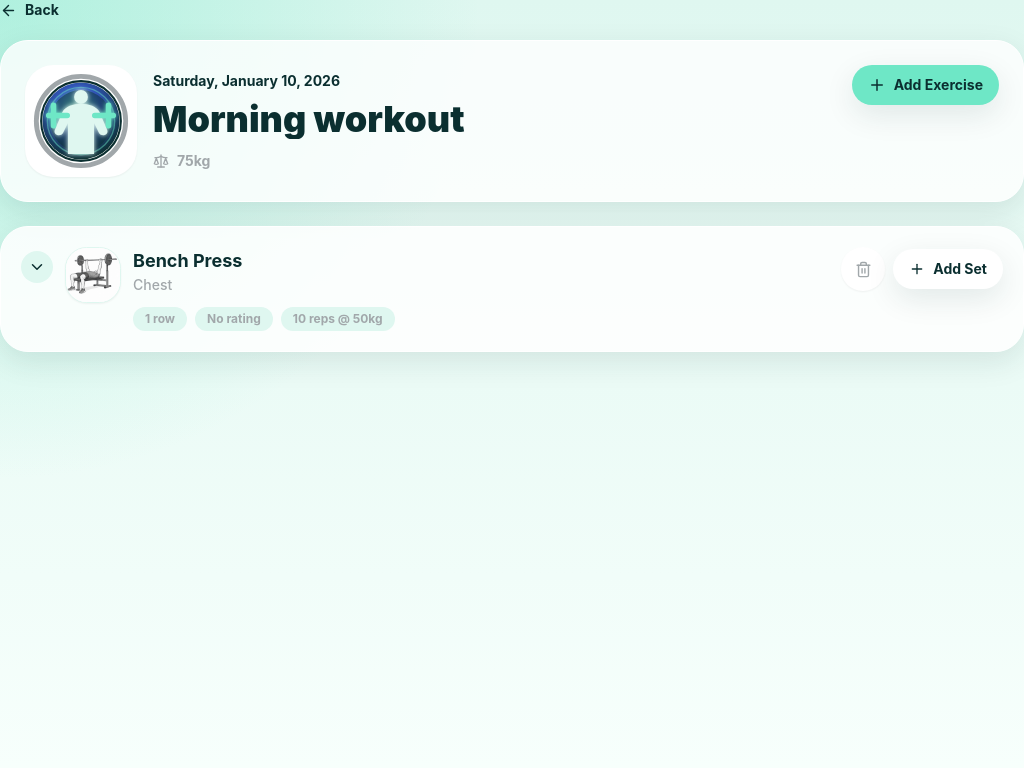
Test: adds an exercise after the highest existing position
Expected: the heading "Morning workout" is shown, [153, 99, 465, 139]
Click the button "Add Exercise".
click(925, 85)  # box [852, 65, 999, 105]
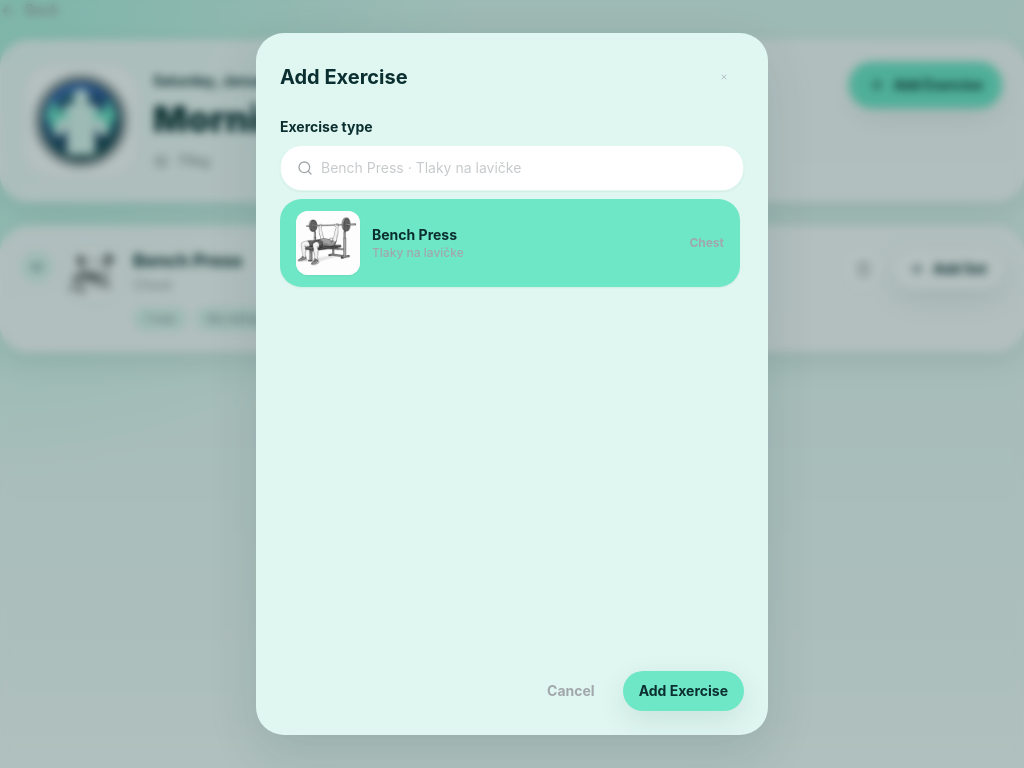
Click the button "Add Exercise".
click(683, 691)  # box [623, 671, 744, 711]
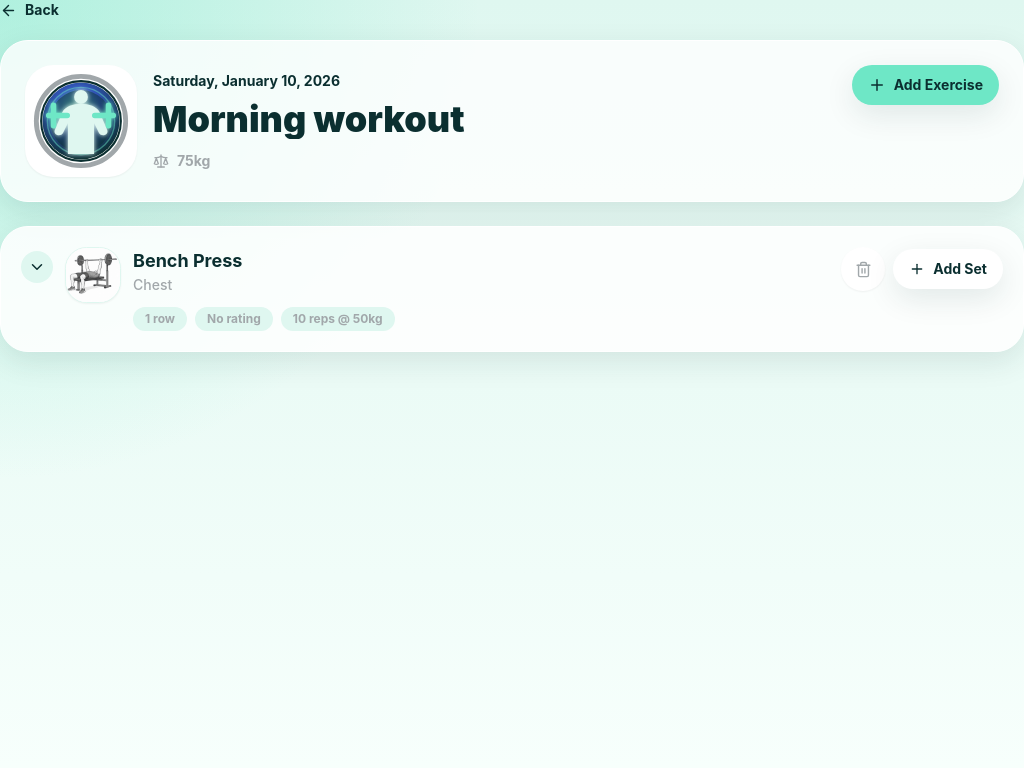
Now the text labelled "Exercise type" is gone
